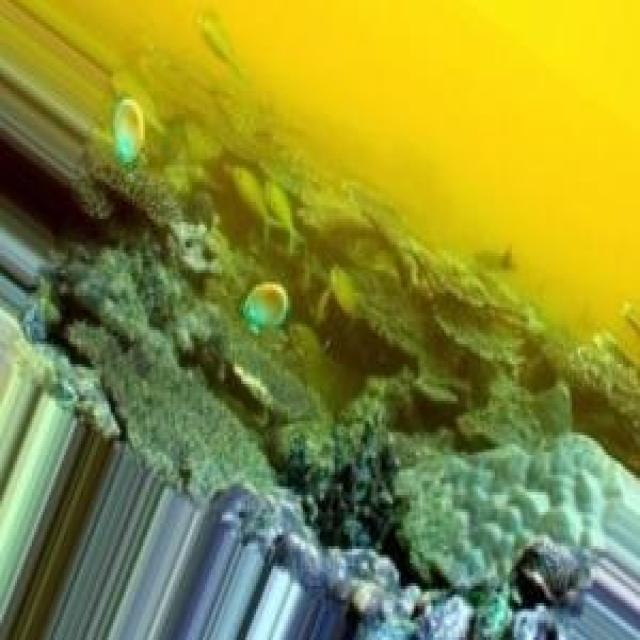Bleached: (415, 436, 640, 630)
Healthy: (22, 18, 640, 640)
